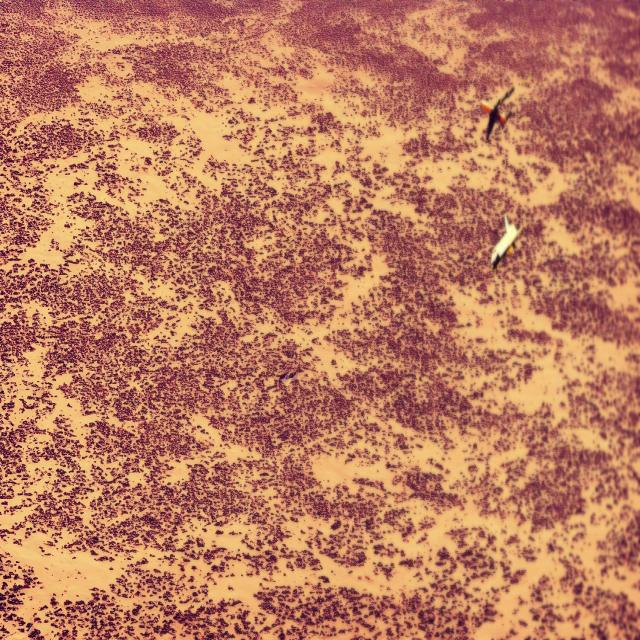airplane: (480, 85, 515, 142), (490, 213, 522, 270)
